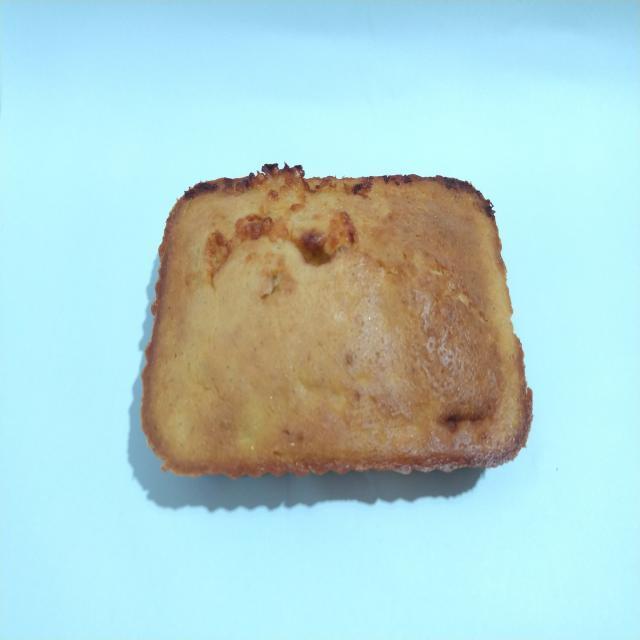Sopa: (130, 154, 538, 491)
